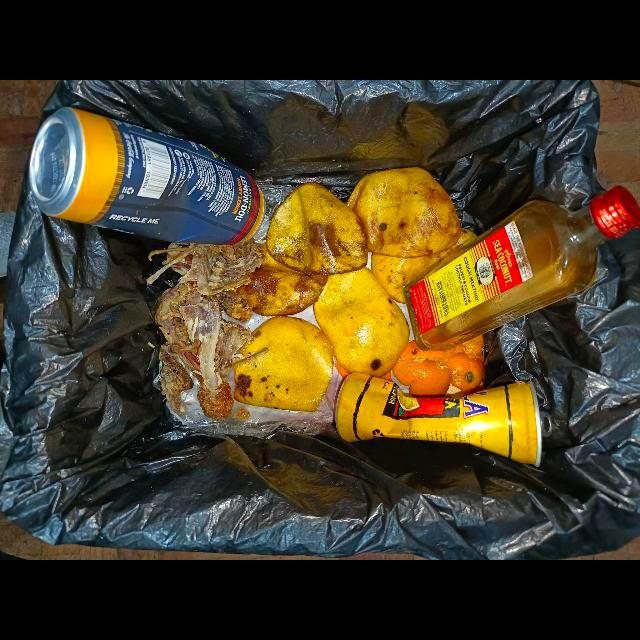aluminum: (27, 107, 261, 246), (334, 371, 543, 468)
glass_bottle: (403, 187, 640, 353)
left_over_food: (146, 236, 266, 351), (179, 302, 252, 421), (160, 345, 194, 414)
